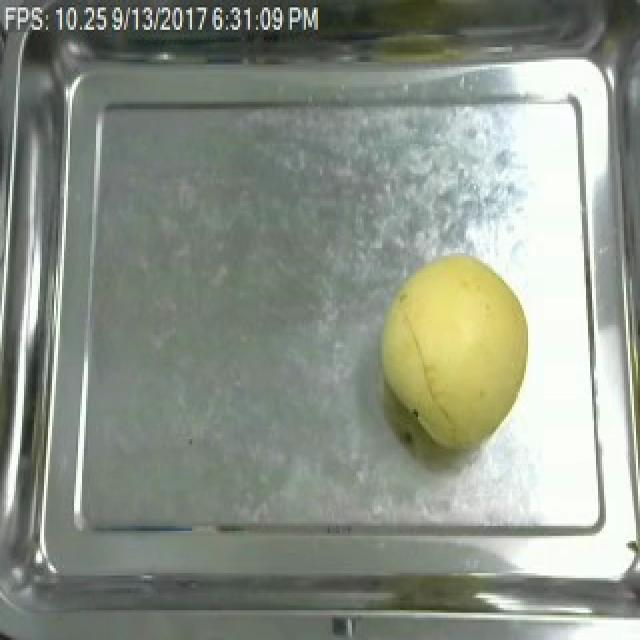Fruit: (374, 246, 538, 454)
